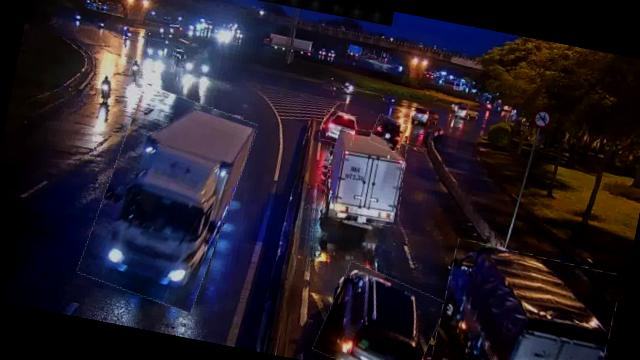Bike: (96, 75, 115, 104), (130, 58, 140, 78)
Car: (314, 262, 445, 360), (368, 114, 408, 152), (319, 109, 358, 146)
Truck: (81, 84, 254, 314), (426, 239, 622, 360), (318, 123, 413, 230)
